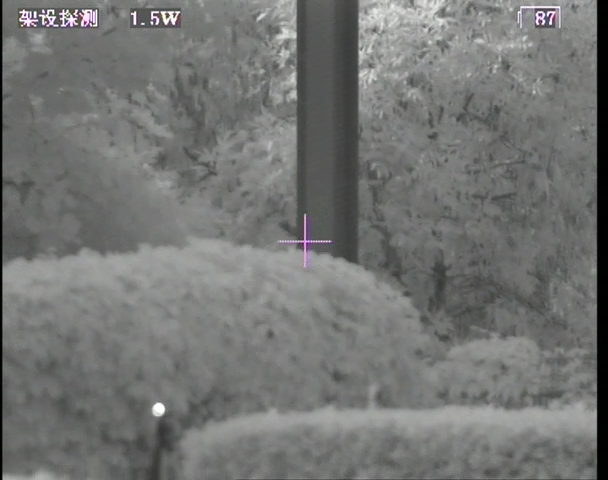my: (150, 400, 167, 418)
